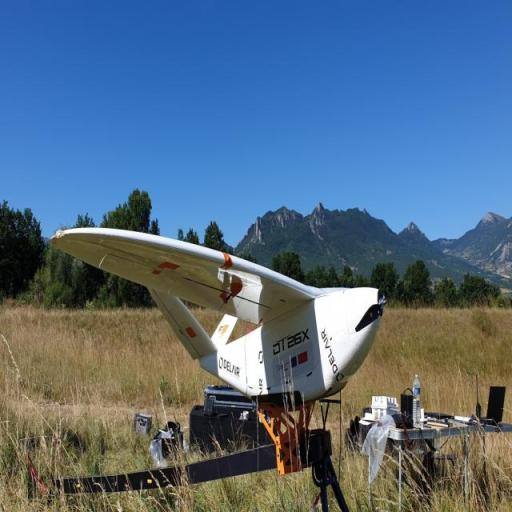uav: (46, 217, 384, 402)
